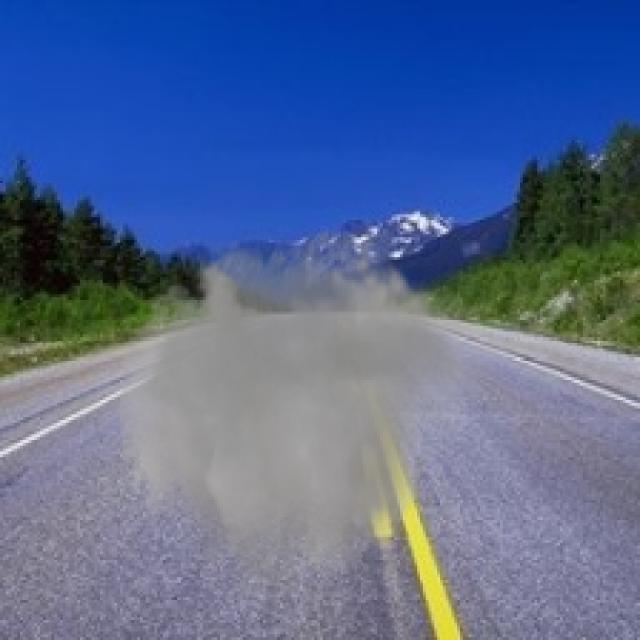smoke: (109, 211, 494, 623)
